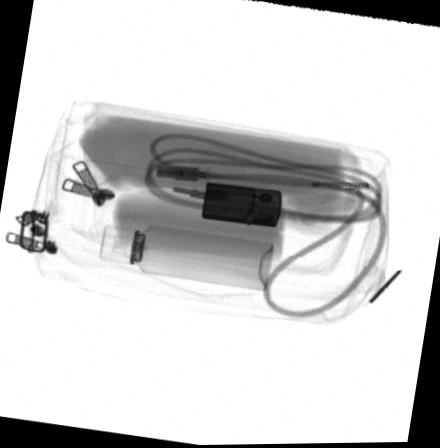Lighter: (202, 181, 281, 226)
Sprayer: (100, 223, 273, 291)
